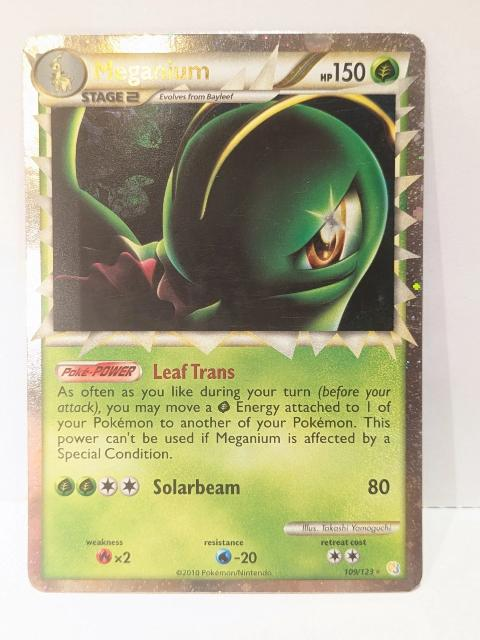Card: (16, 29, 430, 598)
Name: (88, 56, 214, 89)
